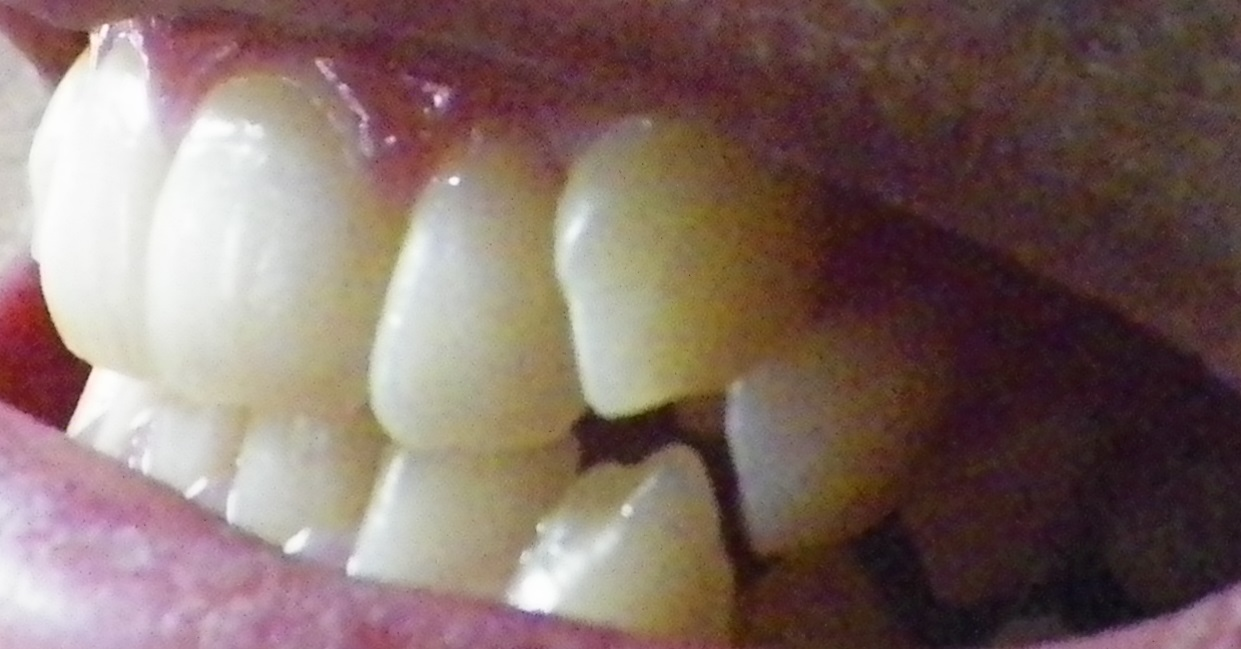boca: (28, 39, 1069, 645)
